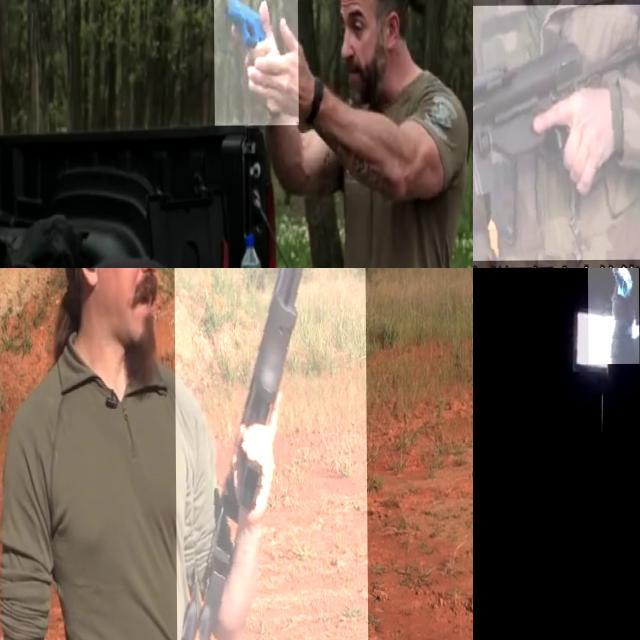gun-knife-thesis - v11 Yolov5 augmented: (173, 268, 367, 640), (473, 5, 640, 261), (213, 0, 298, 126), (587, 268, 639, 364)
